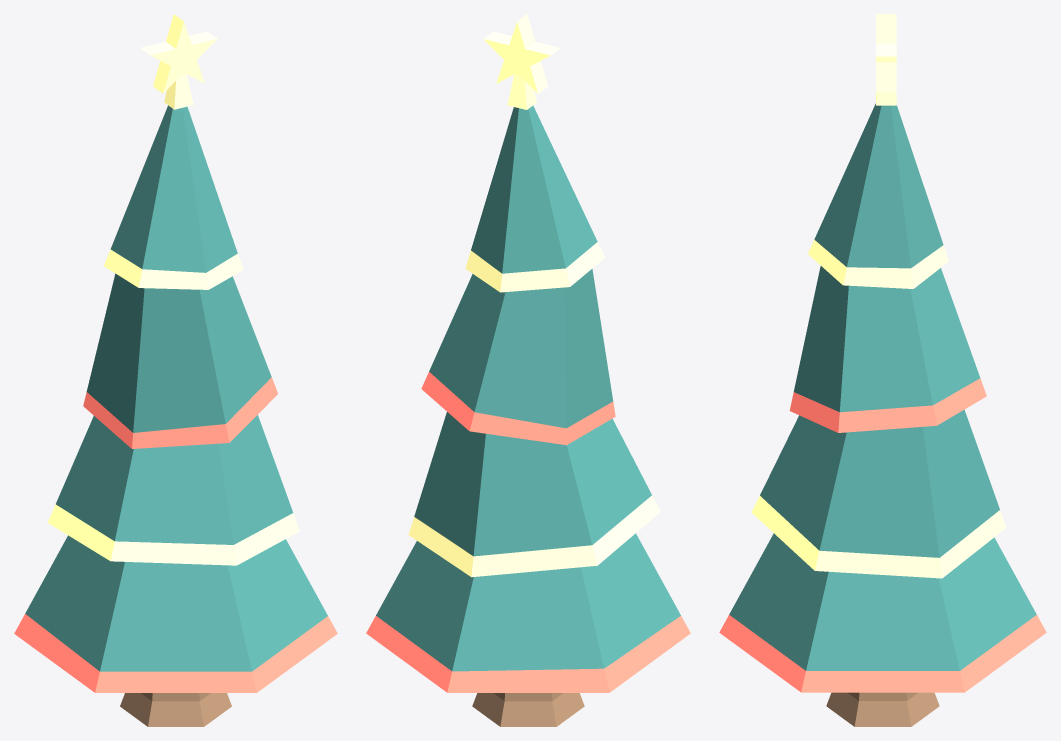
File: treeDecorated.glb
3 views of the same model, side by side, from view 1: azimuth 30°, elevation 25°; view 2: azimuth 150°, elevation 25°; view 3: azimuth 270°, elevation 25° (orthographic).
Visible parts, largest first — view 1: Mesh_treeDecorated_1, Mesh_treeDecorated_3, Mesh_treeDecorated_2, star, Mesh_treeDecorated; view 2: Mesh_treeDecorated_1, Mesh_treeDecorated_3, Mesh_treeDecorated_2, star, Mesh_treeDecorated; view 3: Mesh_treeDecorated_1, Mesh_treeDecorated_3, Mesh_treeDecorated_2, Mesh_treeDecorated, star.
Boxes of the visible parts, box(x1,y1,x2,y2) form: Mesh_treeDecorated_1: box(25, 105, 327, 671); Mesh_treeDecorated_3: box(14, 377, 337, 692); Mesh_treeDecorated_2: box(47, 249, 299, 565); star: box(140, 14, 217, 109); Mesh_treeDecorated: box(120, 693, 231, 726); Mesh_treeDecorated_1: box(376, 106, 680, 671); Mesh_treeDecorated_3: box(366, 372, 690, 692); Mesh_treeDecorated_2: box(408, 242, 660, 577); star: box(483, 14, 560, 109); Mesh_treeDecorated: box(472, 693, 584, 726); Mesh_treeDecorated_1: box(729, 103, 1036, 670); Mesh_treeDecorated_3: box(719, 378, 1046, 692); Mesh_treeDecorated_2: box(751, 240, 1006, 578); Mesh_treeDecorated: box(826, 692, 939, 726); star: box(876, 14, 896, 105).
Size of what is drawn, in the model's own units: 0.651 by 1.76 by 0.7517.
